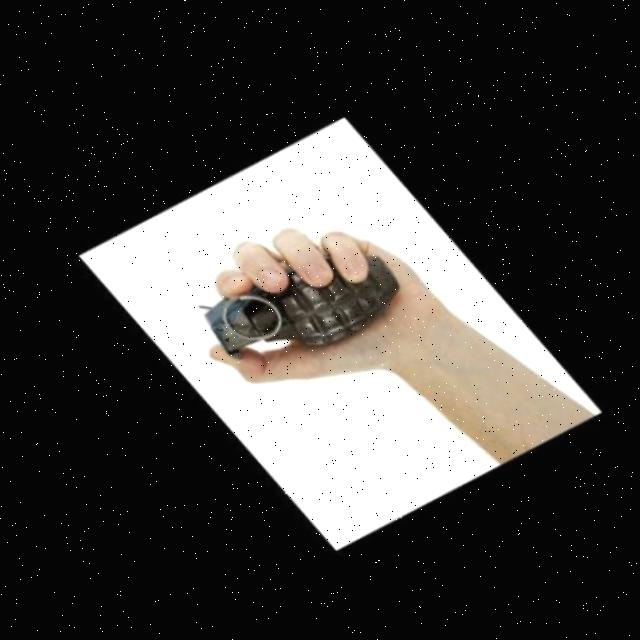grenade: (180, 214, 417, 390)
